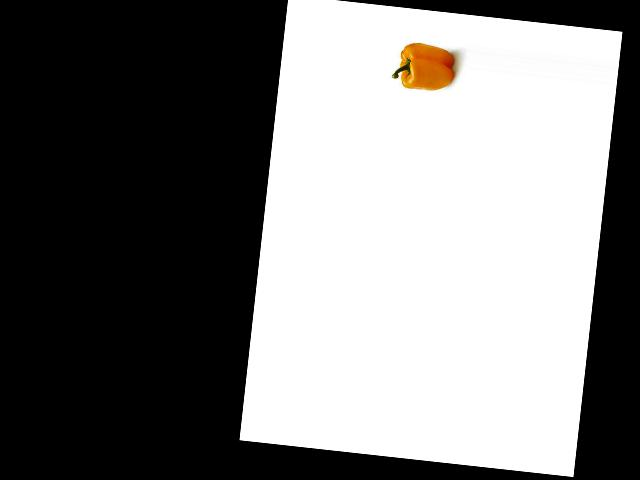bell_pepper: (387, 39, 457, 99)
